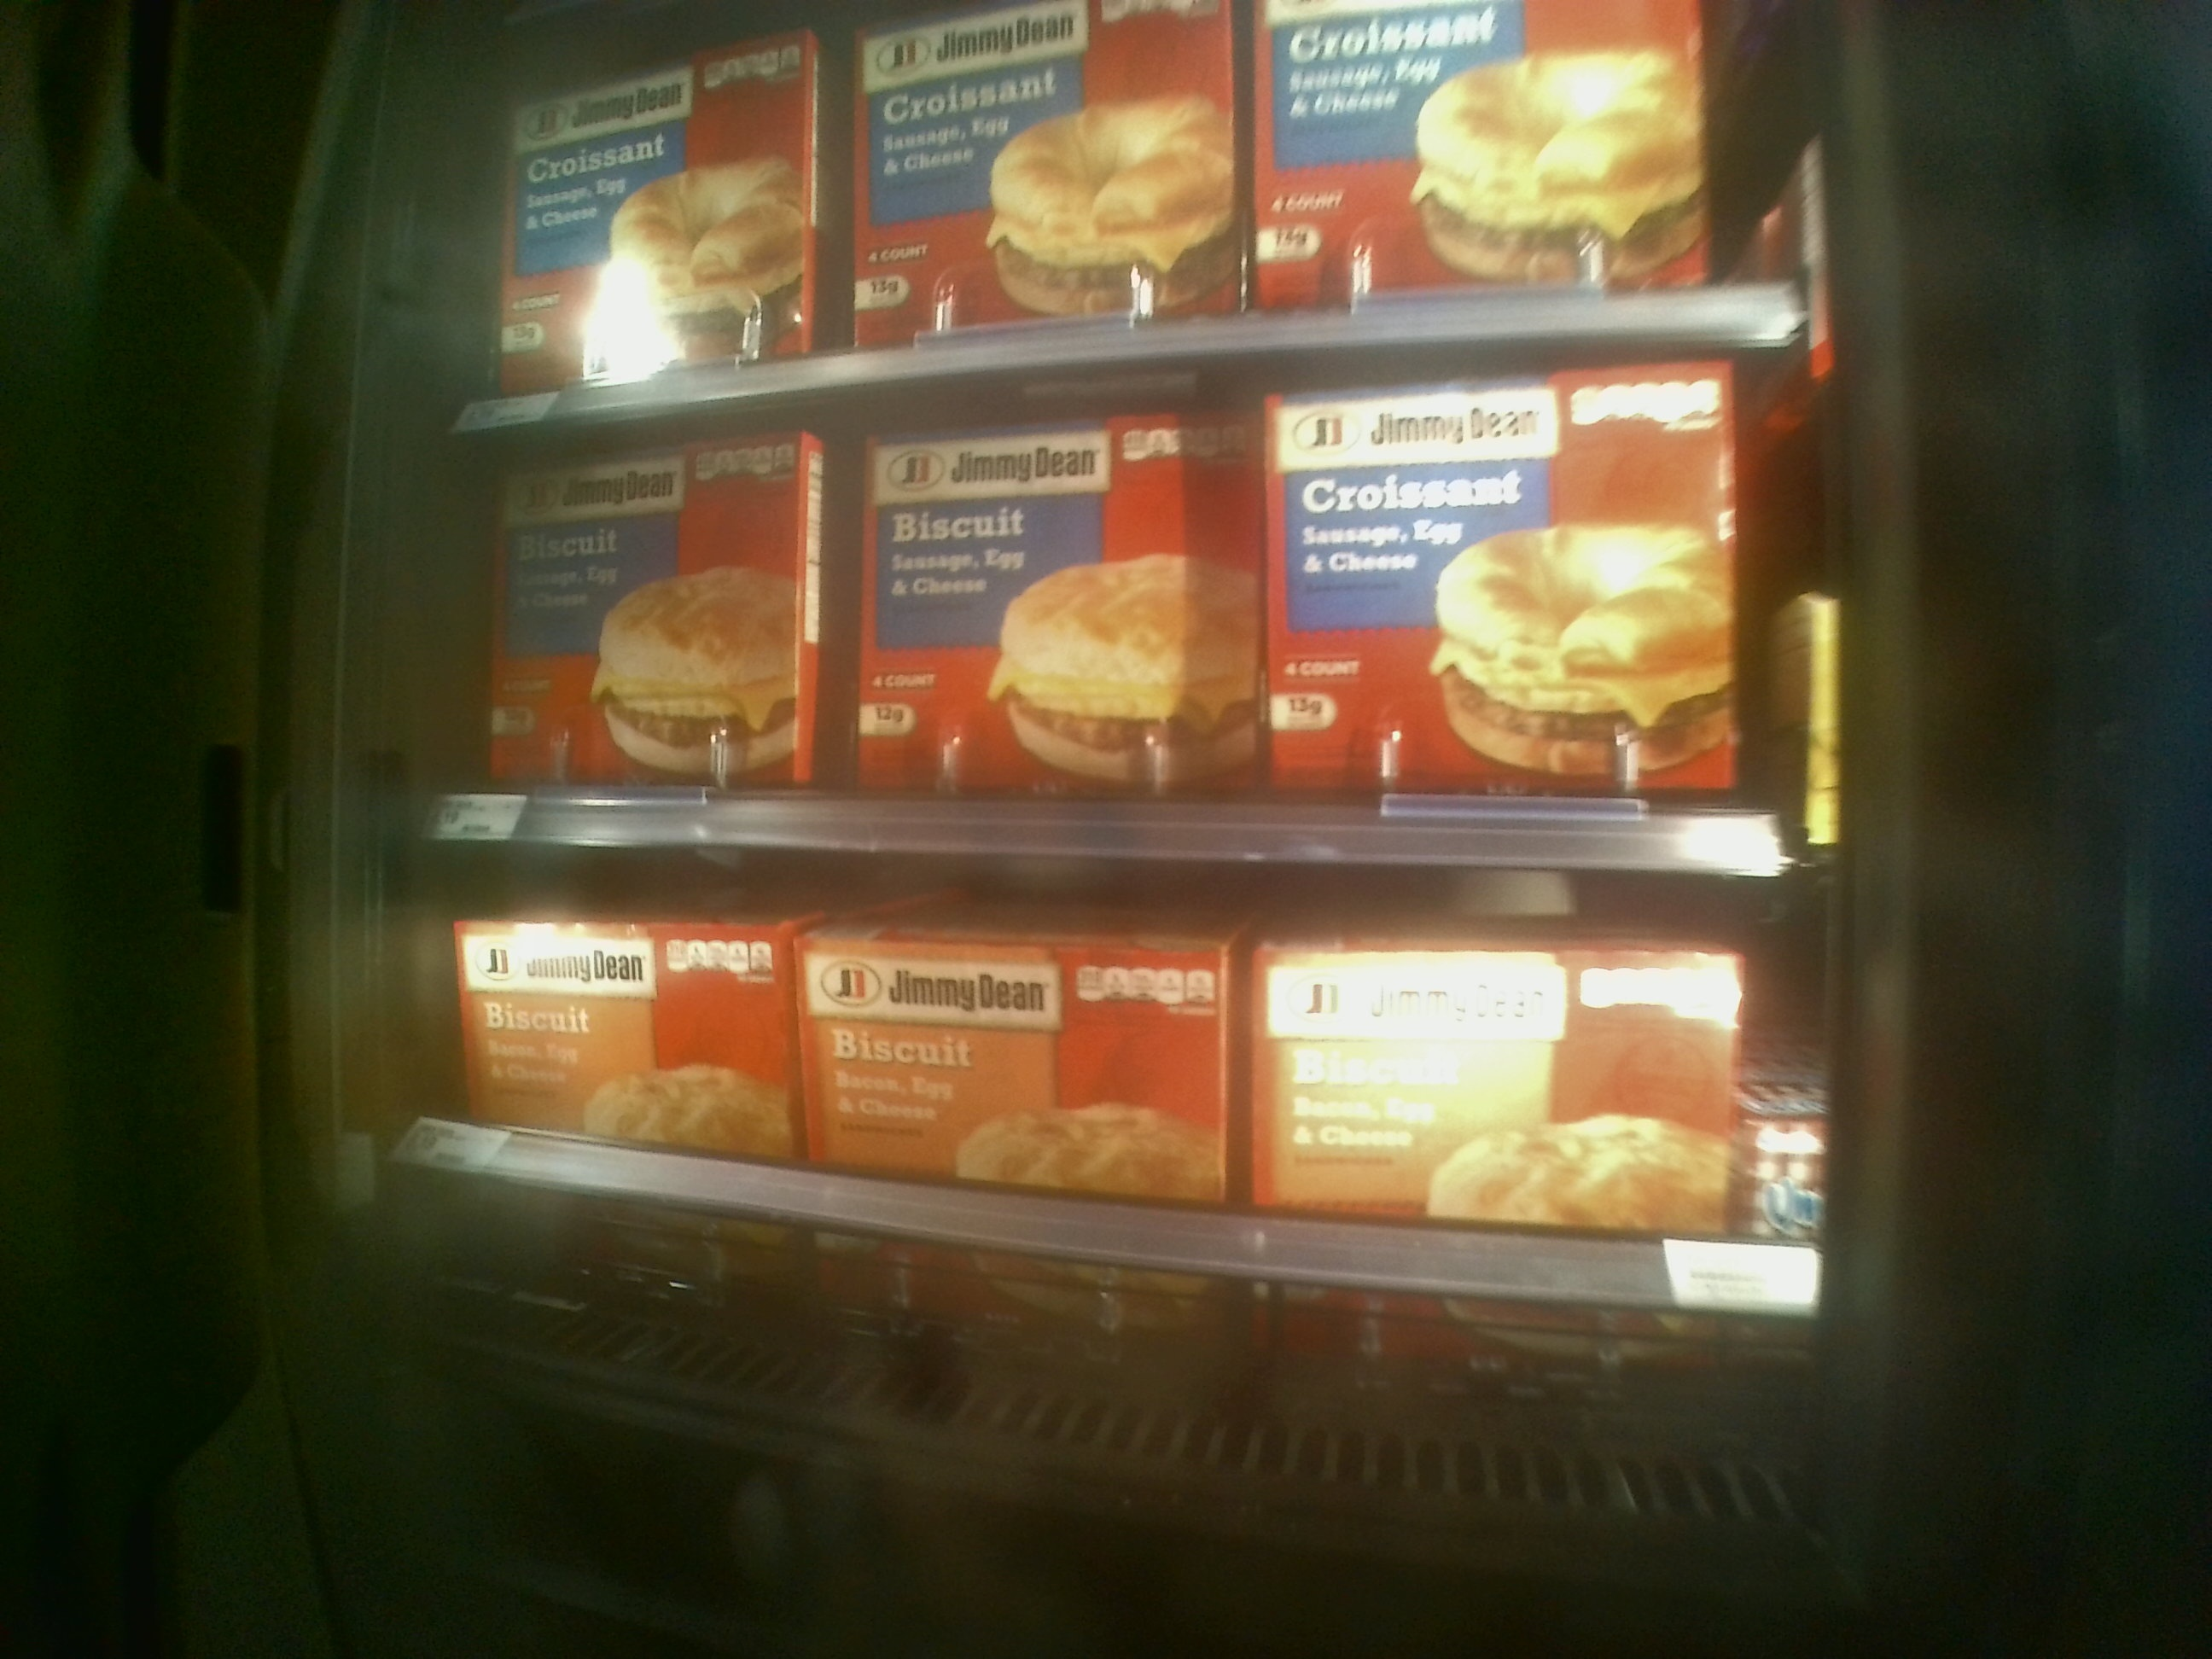shelf: (399, 849, 1822, 1441), (434, 364, 1841, 878)
